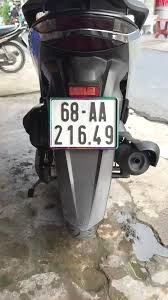Bien-so: (57, 96, 123, 154)
